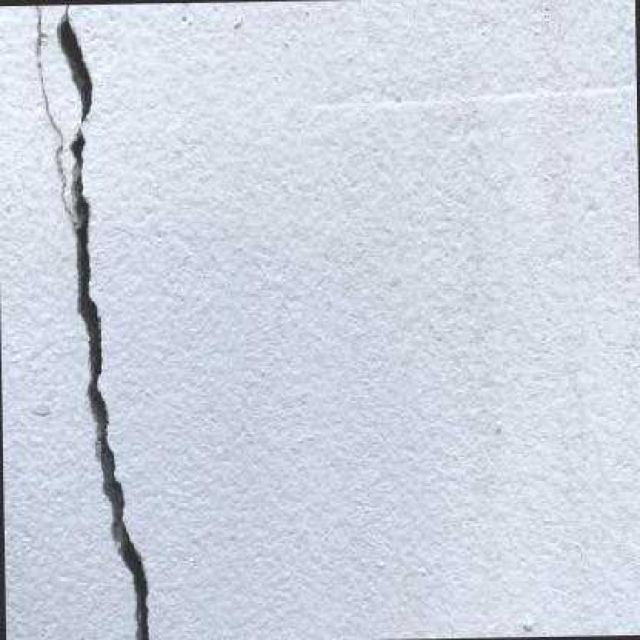D00: (33, 4, 150, 640)
